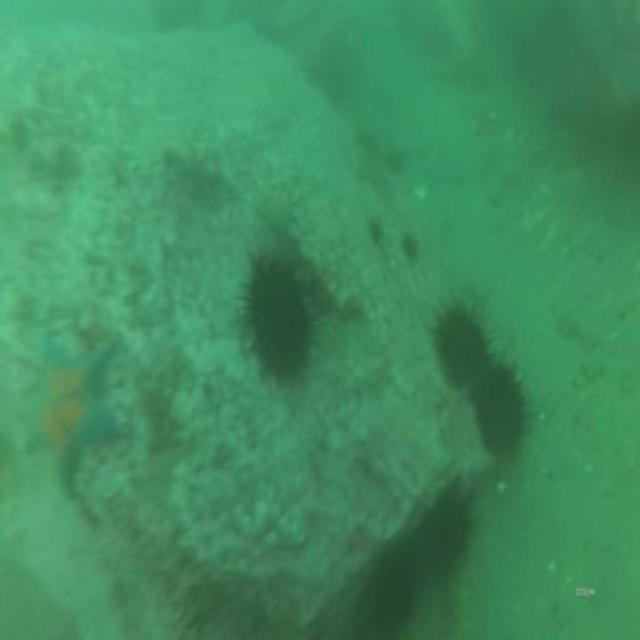echinus: (247, 262, 315, 376), (433, 304, 489, 386), (369, 536, 417, 629), (476, 366, 524, 456), (428, 492, 471, 564)
starfish: (22, 348, 118, 476)
